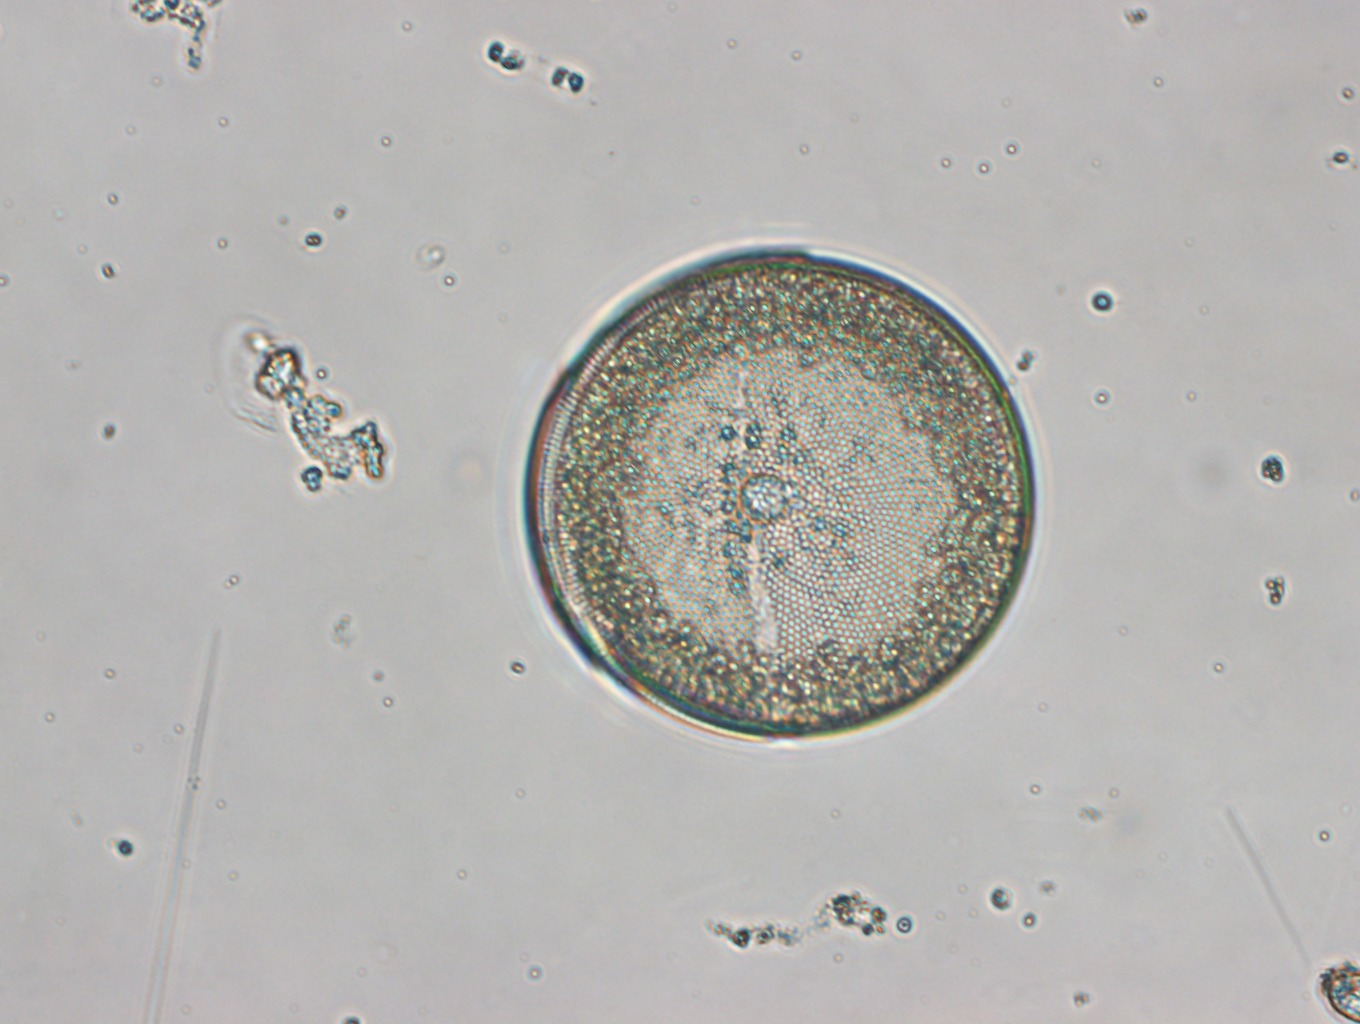coscinodiscus: (519, 242, 1037, 749)
